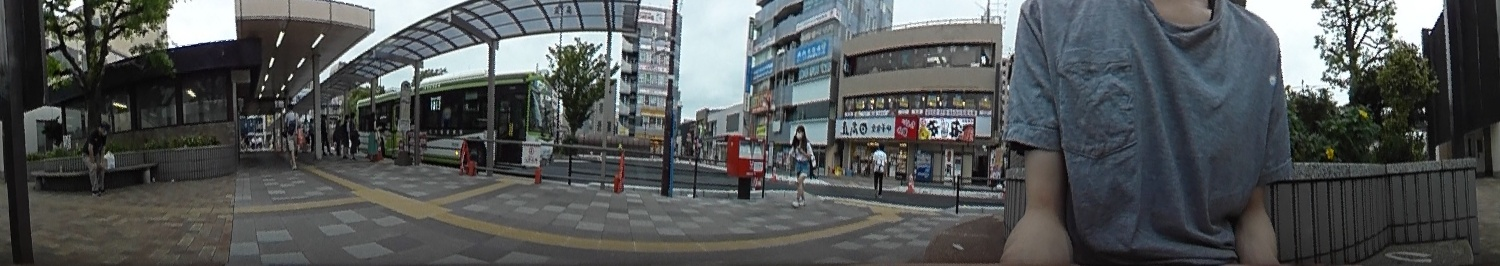difficult_person: (282, 103, 297, 166), (871, 143, 886, 197), (366, 110, 380, 159), (347, 112, 360, 155), (339, 113, 350, 156)
person: (83, 122, 109, 197), (790, 122, 810, 206)
